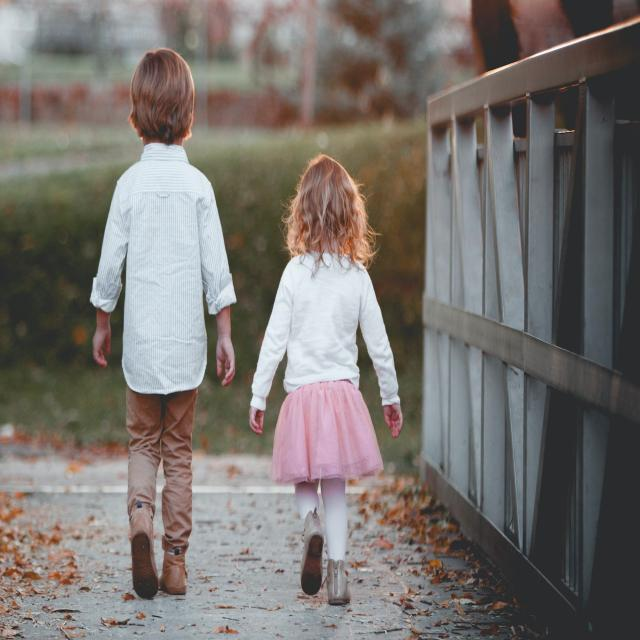child: (91, 45, 236, 598), (247, 151, 402, 606)
